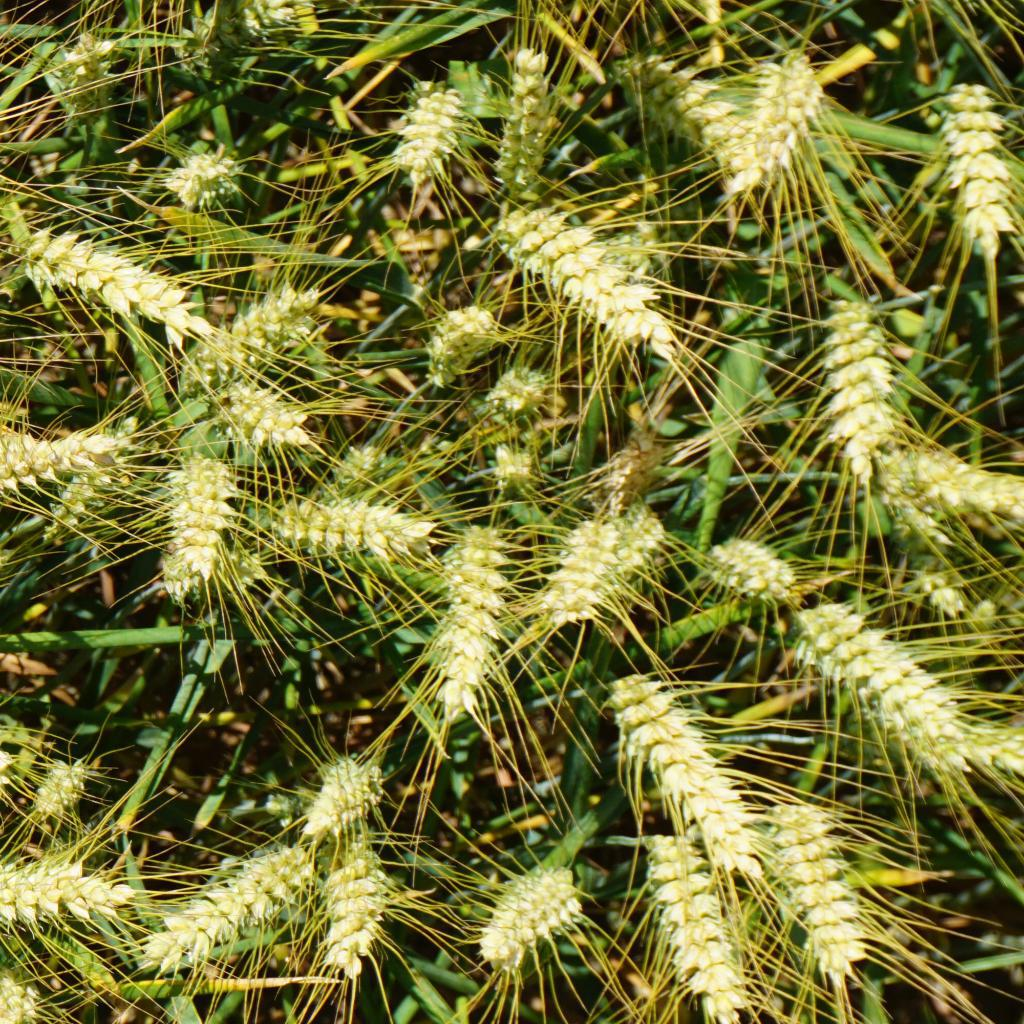0-0: (490, 192, 685, 361), (621, 655, 764, 868), (806, 598, 960, 759), (647, 817, 760, 1015), (21, 213, 196, 325), (769, 783, 867, 971), (166, 841, 298, 978), (612, 45, 738, 187), (918, 79, 1014, 263), (426, 512, 504, 716), (731, 48, 843, 183), (478, 858, 603, 971), (264, 487, 433, 570), (564, 201, 683, 318), (819, 298, 894, 482), (886, 462, 974, 617), (160, 291, 314, 378), (0, 843, 129, 943), (894, 429, 1024, 526), (480, 56, 564, 206), (323, 844, 409, 988), (150, 448, 226, 594), (590, 411, 680, 520), (380, 82, 457, 203), (143, 137, 260, 208), (704, 520, 789, 610), (412, 288, 495, 380), (216, 376, 312, 451), (51, 462, 120, 554), (600, 504, 674, 588), (59, 34, 124, 128), (0, 415, 76, 495), (554, 504, 598, 627), (477, 368, 563, 429), (301, 766, 384, 828), (954, 707, 1024, 778), (22, 742, 83, 823), (167, 11, 246, 73), (0, 956, 49, 1024), (332, 443, 395, 490), (483, 438, 544, 484), (0, 243, 22, 368)
